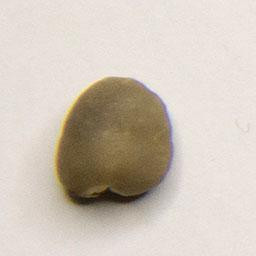peaberry: (52, 72, 179, 205)
